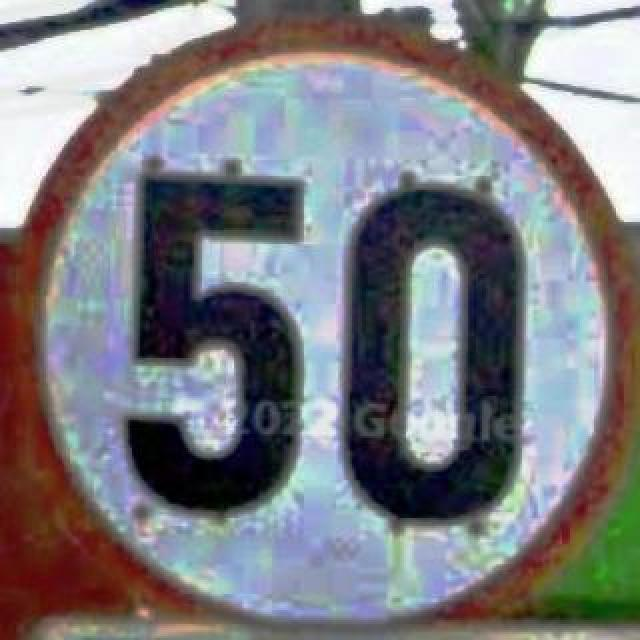50 kph: (6, 12, 638, 632)
